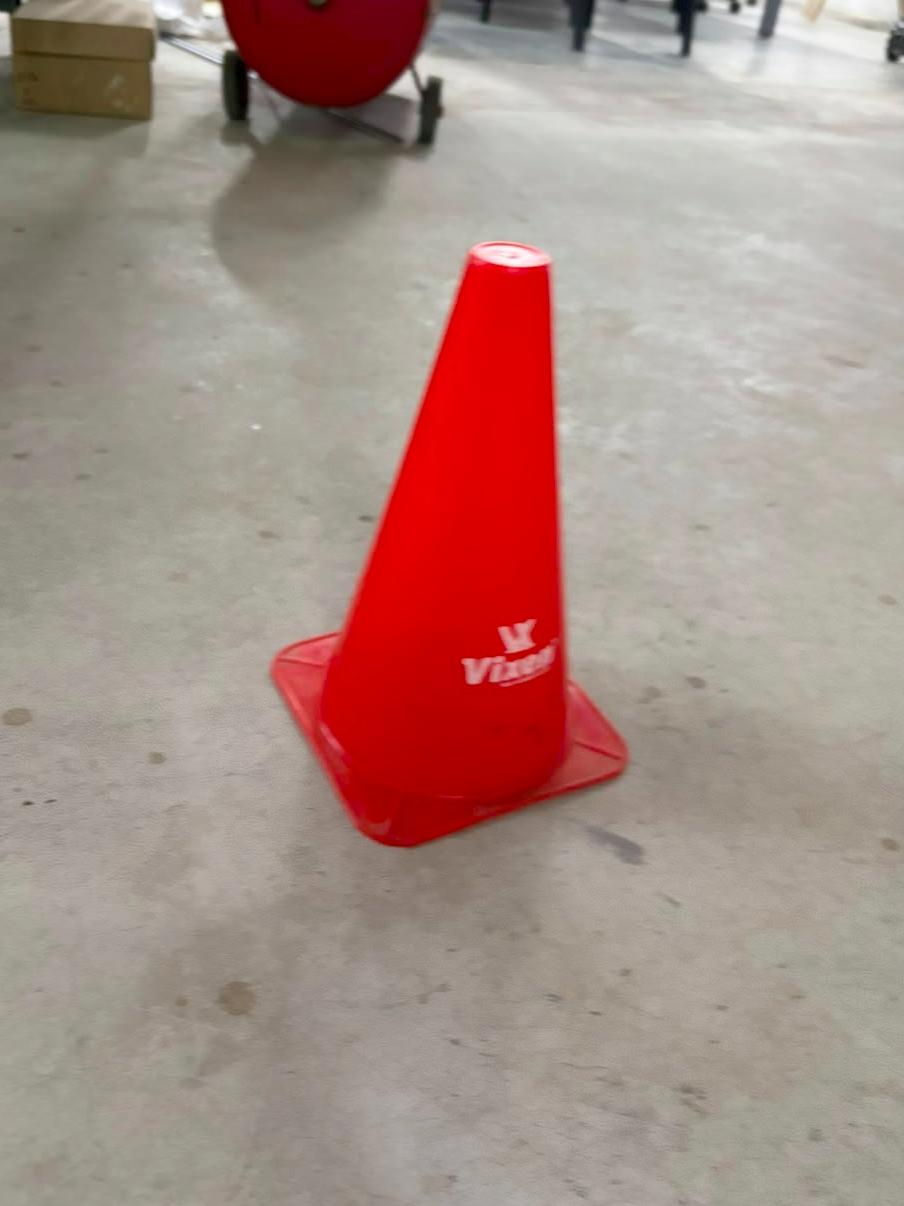0 cone: (272, 242, 627, 845)
